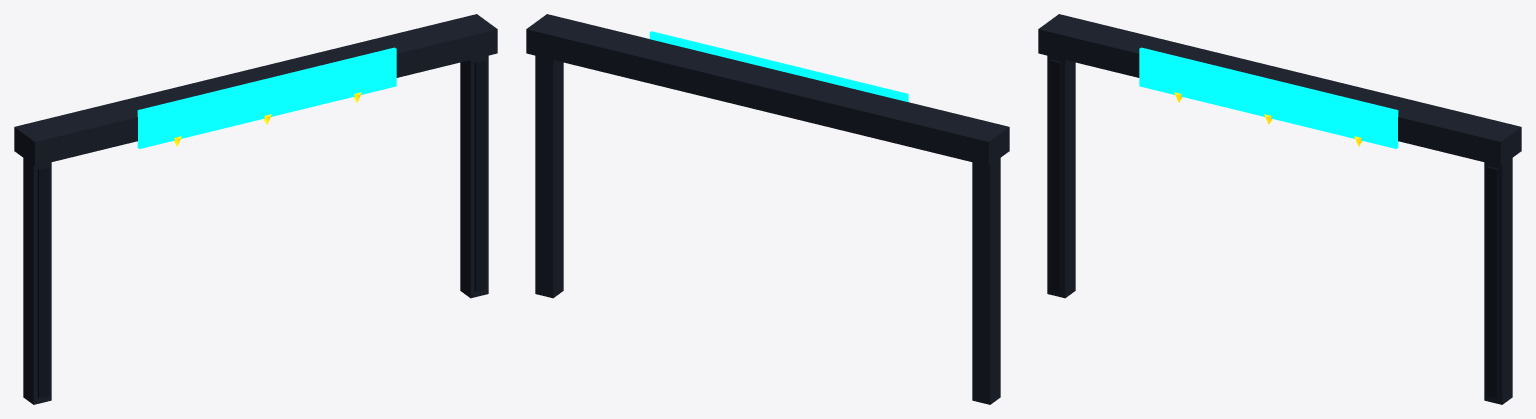
Rendered from prop_overhead_gantry.glb.
3 renders of one model, left to right at view 1: azimuth 30°, elevation 25°; view 2: azimuth 150°, elevation 25°; view 3: azimuth 330°, elevation 25°, orthographic.
Visible parts, largest first — view 1: PropOverheadGantry; view 2: PropOverheadGantry; view 3: PropOverheadGantry.
Boxes of the visible parts, x1,y1,x2,y2 form: PropOverheadGantry: (14, 14, 497, 404); PropOverheadGantry: (526, 14, 1009, 404); PropOverheadGantry: (1038, 14, 1521, 404).
Size of the model in its own units: 18 by 10.2 by 1.67.
